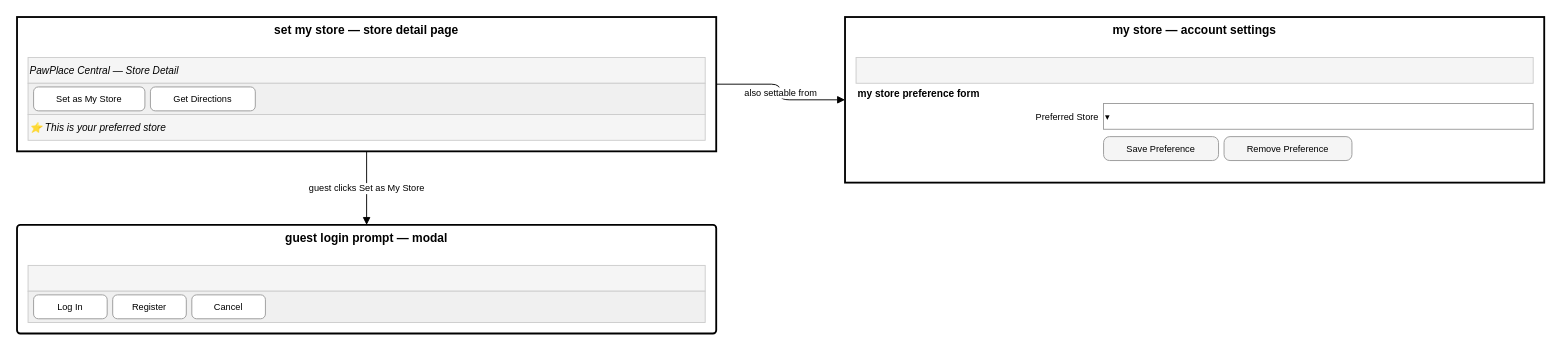
This 1560x350 diagram has some shape labels left out. Each missing label, with the centre of its shape:
Account Settings — My Store: the point at 1194,70
Log in or register to set your preferred store: the point at 366,277
